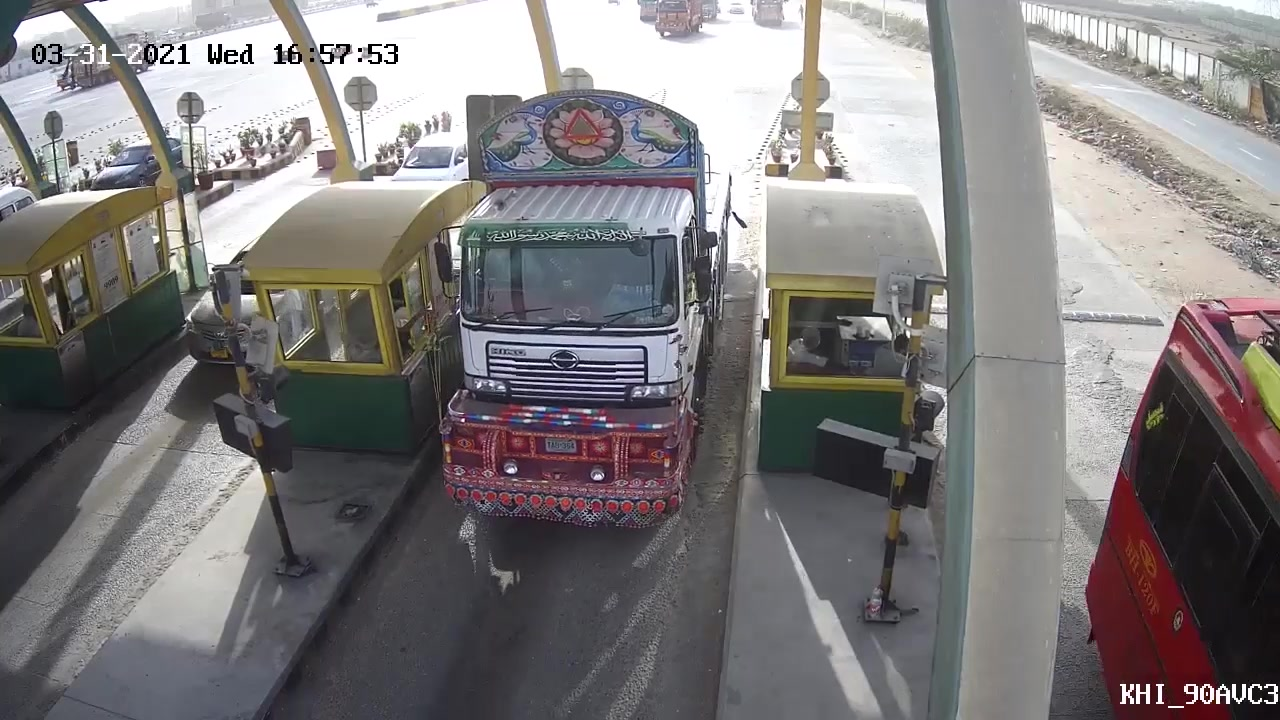F5: (433, 94, 737, 538)
